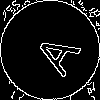A: (25, 25, 82, 78)
